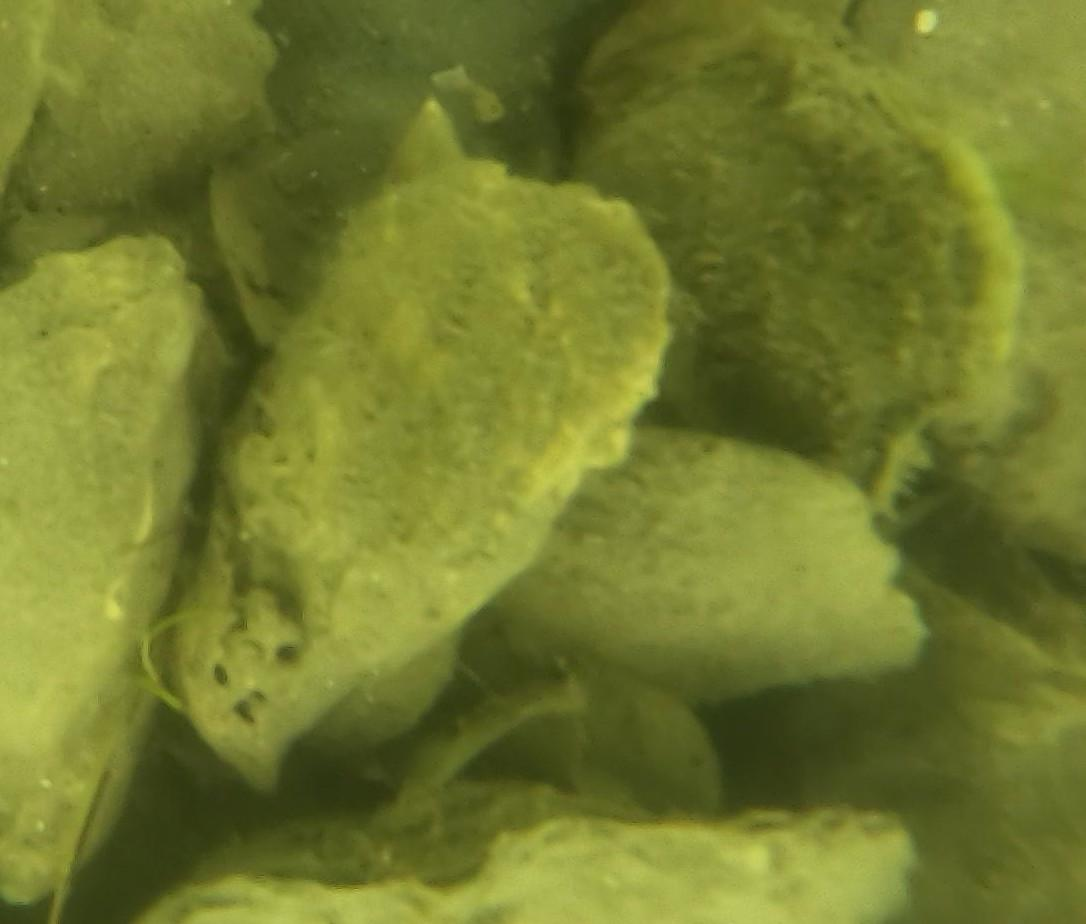Oyster-Closed: (184, 165, 670, 797), (574, 0, 1023, 432), (767, 0, 1086, 555), (0, 237, 195, 910), (494, 428, 922, 698), (139, 790, 918, 924), (7, 0, 277, 207), (0, 0, 56, 192)
